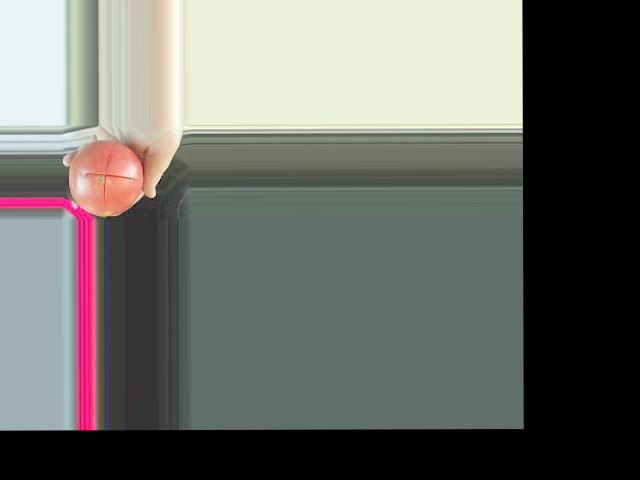tomato: (67, 139, 143, 216)
